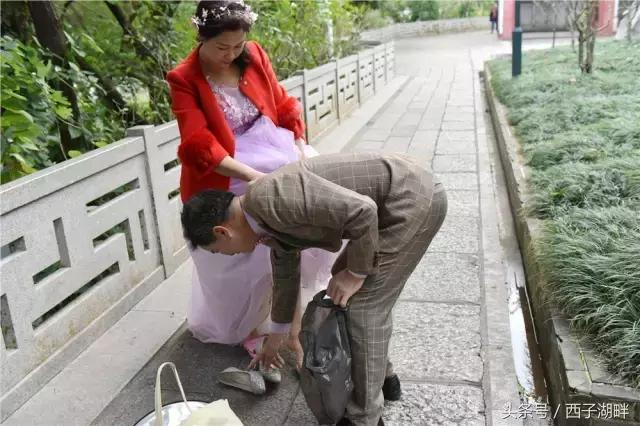bending: (186, 153, 451, 419)
up: (168, 8, 282, 369)
